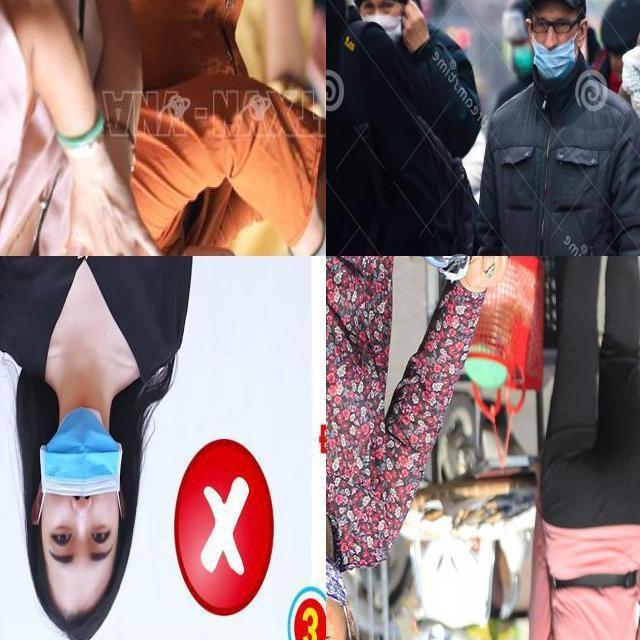hairnet: (37, 408, 125, 518), (533, 28, 581, 79)
